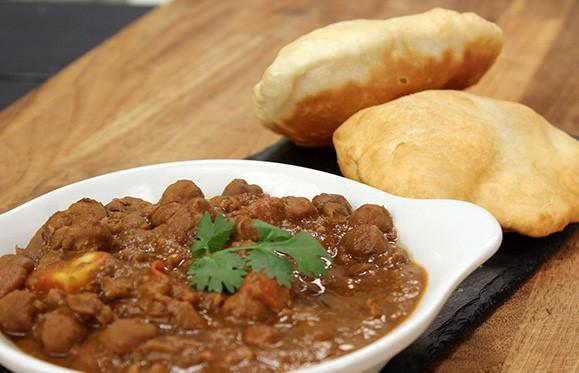Bhatura: (252, 8, 579, 236)
Chole: (9, 177, 391, 359)
